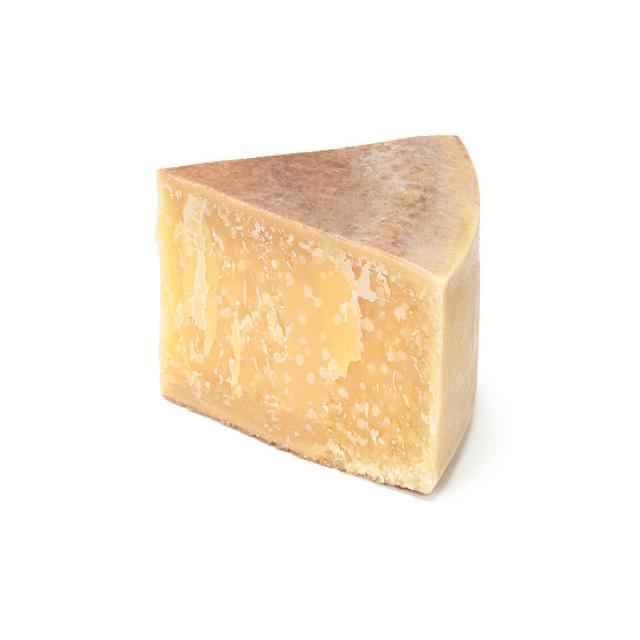Cheese: (156, 127, 479, 501)
